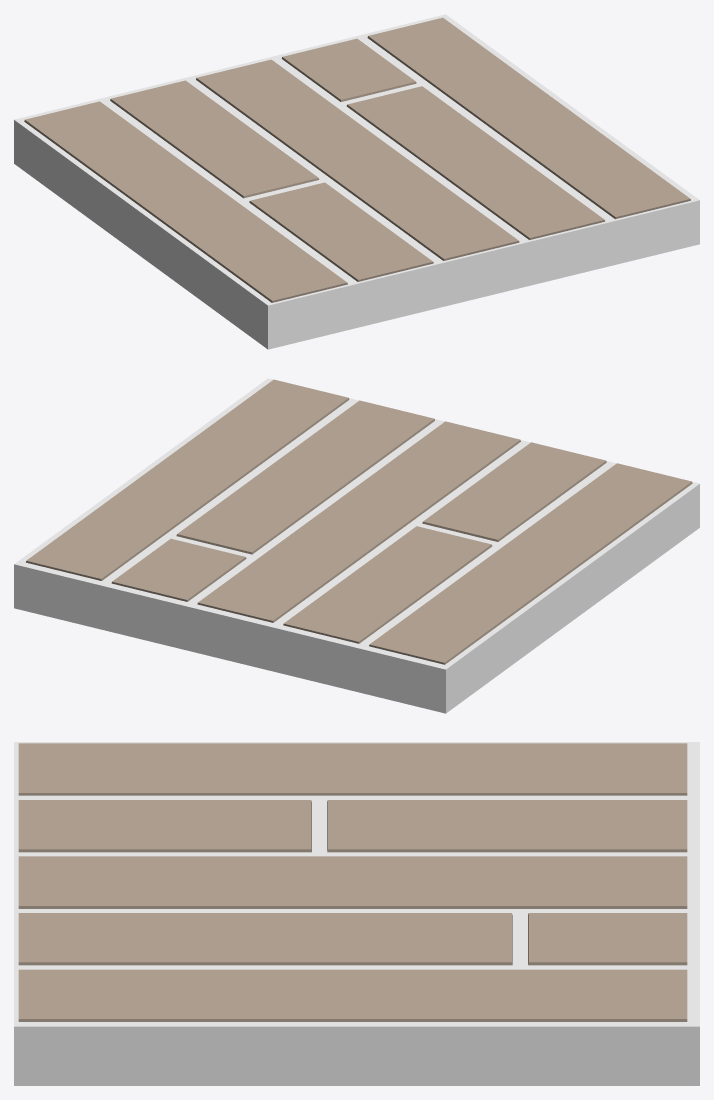
The model's file is modular_village_wood_floor_1.glb.
The picture shows the model from 3 angles, top to bottom: view 1: azimuth 30°, elevation 25°; view 2: azimuth 150°, elevation 25°; view 3: azimuth 270°, elevation 25°; orthographic projection. The views are drawn at different scales.
Parts seen in each view (by area): view 1: object1, Cube; view 2: object1, Cube; view 3: object1, Cube.
Part boxes in pixels (x1=…): object1: x1=24, y1=17, x2=690, y2=302; Cube: x1=14, y1=14, x2=699, y2=349; object1: x1=26, y1=379, x2=692, y2=664; Cube: x1=14, y1=378, x2=699, y2=713; object1: x1=18, y1=743, x2=687, y2=1021; Cube: x1=14, y1=742, x2=699, y2=1085.
Size of the model in its own units: 1.01 by 0.1024 by 1.03.
